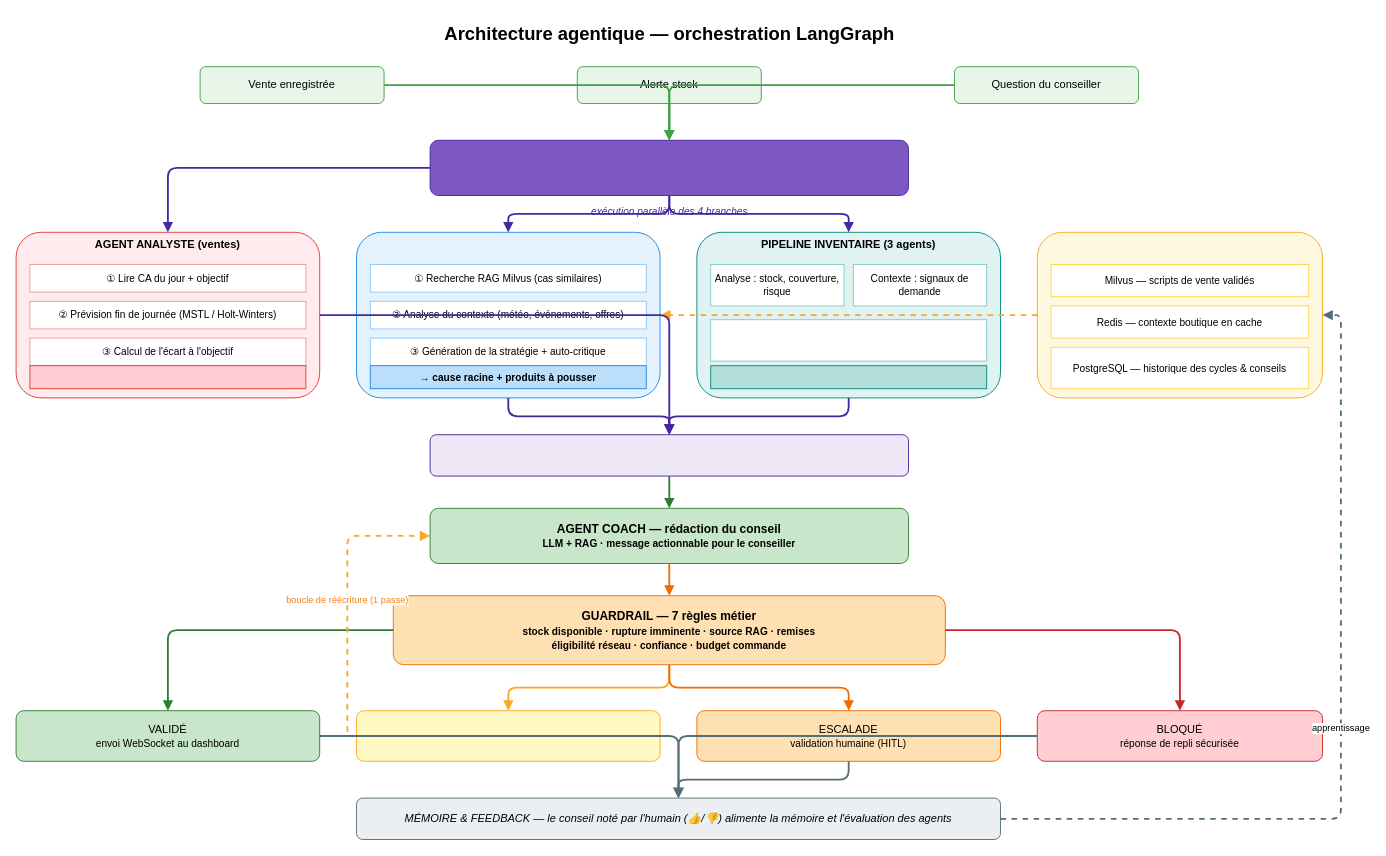
This 1386x856 diagram has some shape labels left out. Here are the shapes that lost their labels. From the top down, the box of each, then its label:
(429, 139, 908, 196): SUPERVISEUR (LangGraph) état partagé RetailState · routage conditionnel
(356, 231, 660, 398): AGENT STRATÈGE (RAG)
(1036, 231, 1322, 398): MÉMOIRE & CONNAISSANCE
(710, 319, 987, 361): Décision : contrôle des contraintes → action
(29, 365, 306, 389): → niveau d'urgence : HAUT / MOYEN / BAS
(710, 365, 987, 389): → commande suggérée (quantité, date)
(429, 434, 908, 476): FUSION DES SORTIES (état unifié)
(356, 710, 660, 761): À RÉÉCRIRE une passe de plus par le Coach
